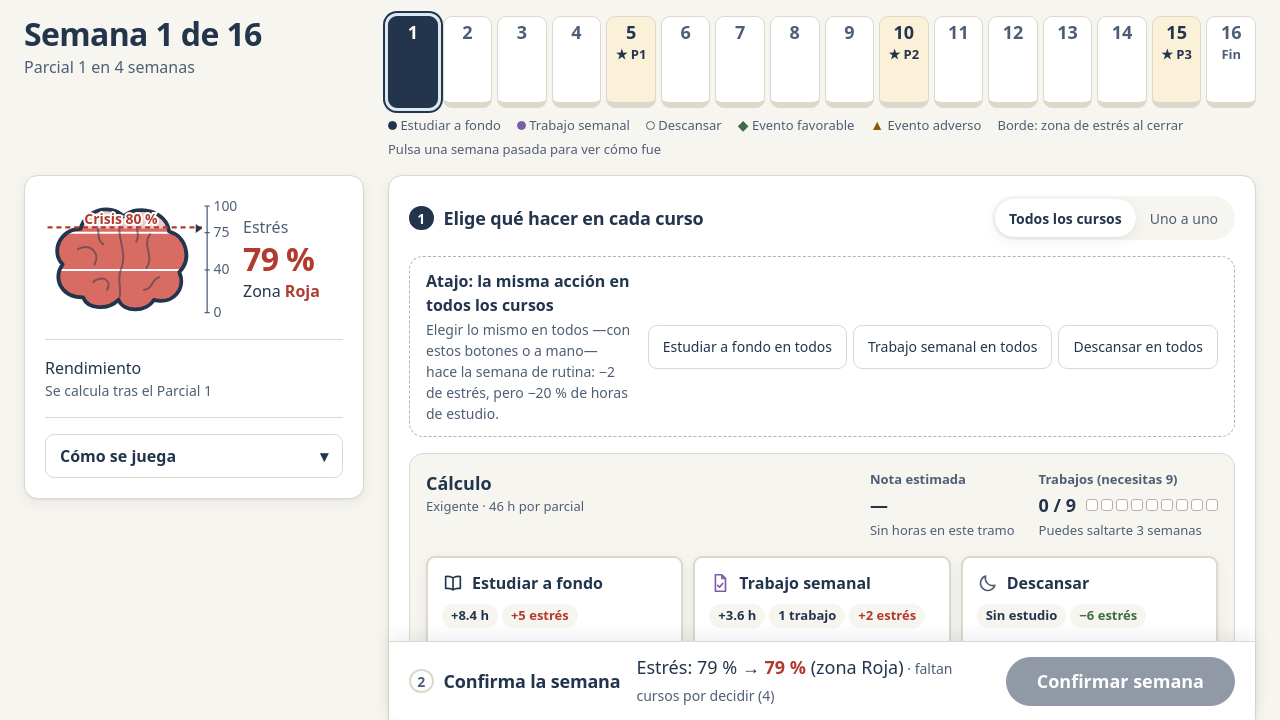
interfaz › avisa antes de confirmar una semana que provoca crisis
Click the button "Trabajo semanal en todos" at (953, 346), box [853,324,1052,368]
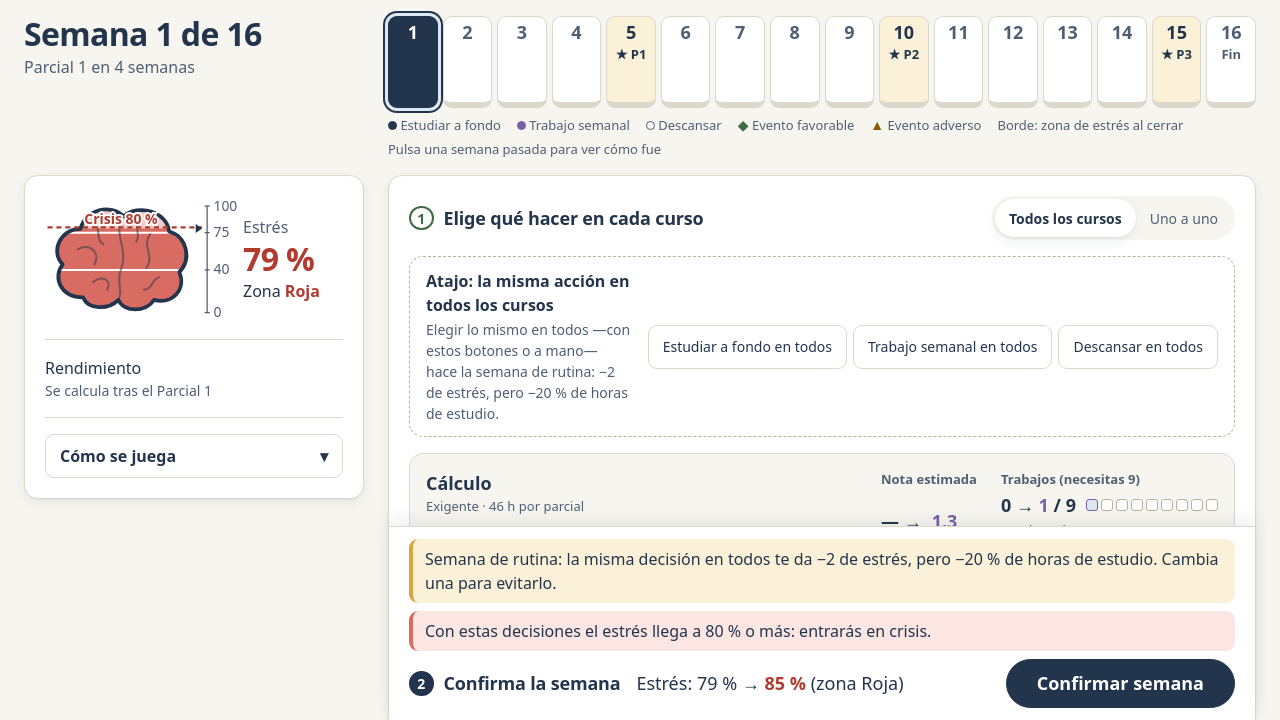
Expected: the message shows "entrarás en crisis", [724,620,931,642]
